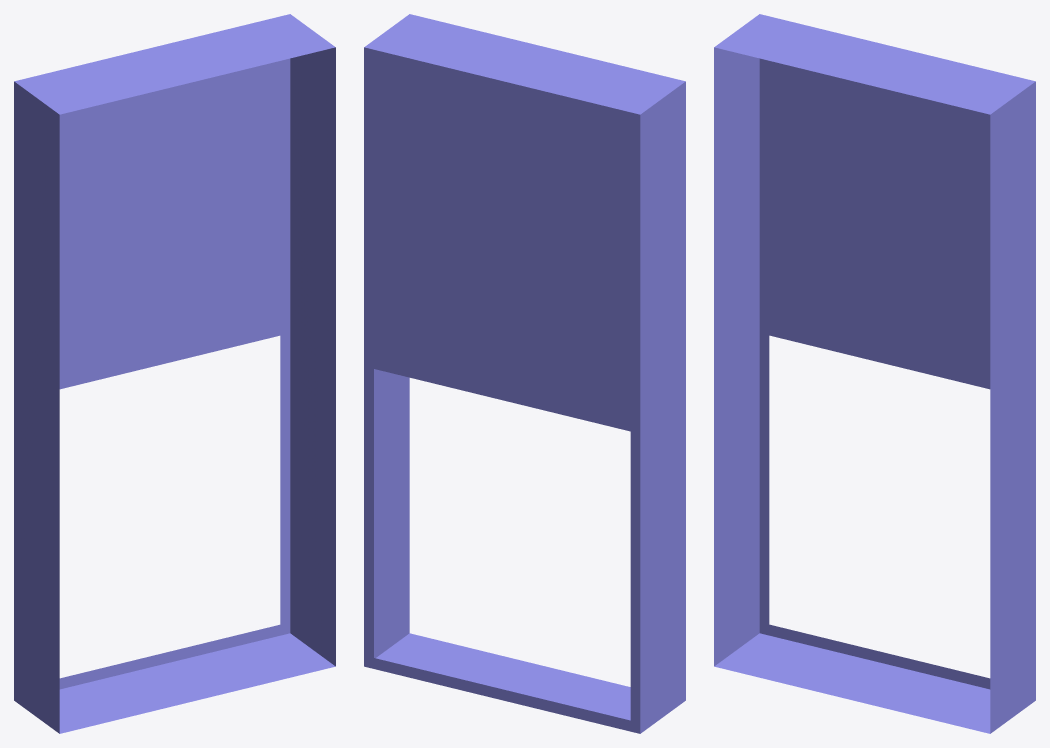
The model's file is original-8.obj.
3 renders of one model, left to right at view 1: azimuth 30°, elevation 25°; view 2: azimuth 150°, elevation 25°; view 3: azimuth 330°, elevation 25°, orthographic.
Parts seen in each view (by area): view 1: #ID20; view 2: #ID20; view 3: #ID20.
Part boxes in pixels (<box>): #ID20: <box>14,14,335,733</box>; #ID20: <box>364,14,685,733</box>; #ID20: <box>714,14,1035,733</box>.
Size of the model in its own units: 0.2701 by 0.5788 by 0.0772.
